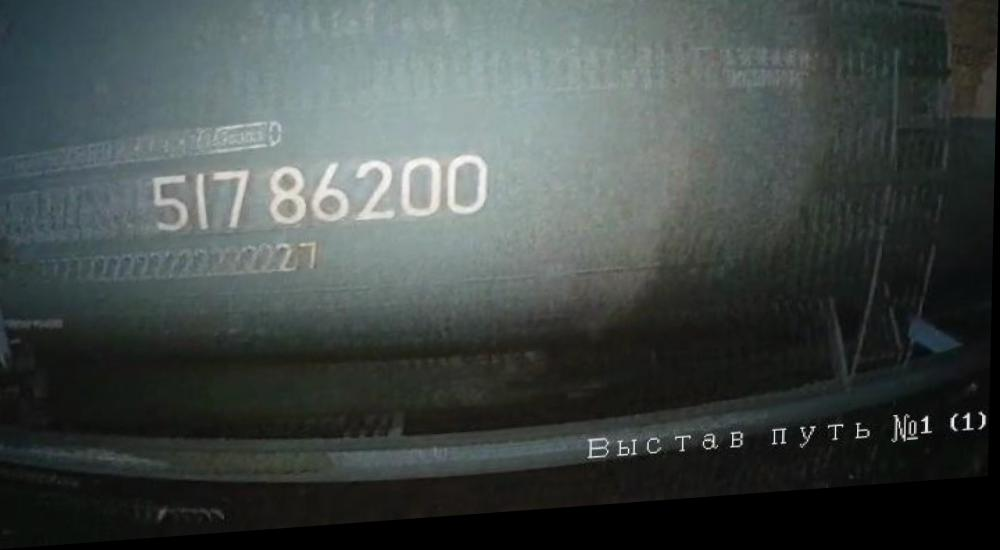Wagon-number: (146, 154, 493, 245)
